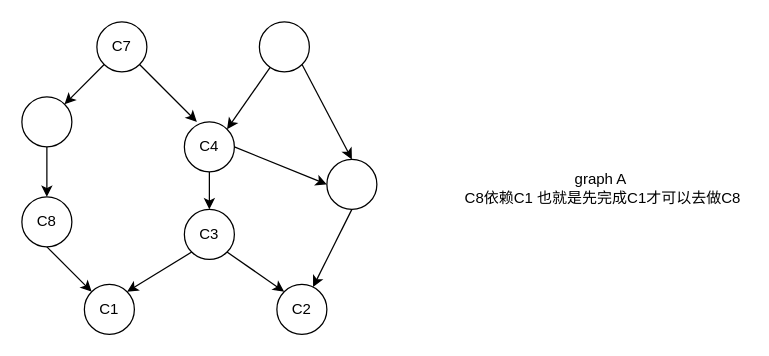
The diagram is 769 pixels wide and 356 high, and some of its shapes have lost their labels. The box of each missing label's shape, as (x1, y1, x2, y2) in pixels:
C5: (326, 158, 377, 209)
C6: (258, 21, 309, 72)
C9: (21, 96, 72, 147)
